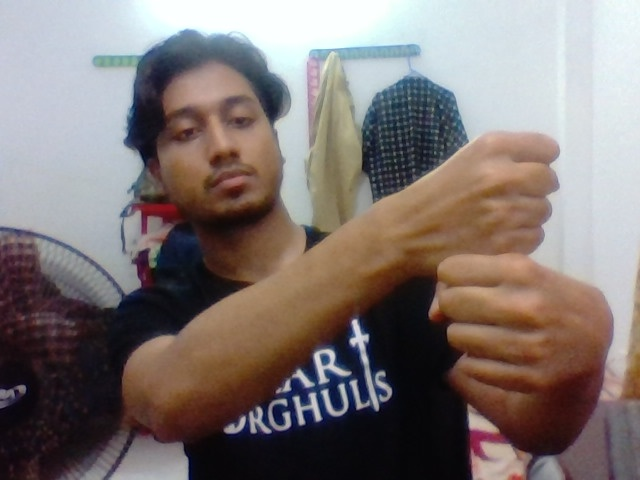G: (413, 107, 591, 405)
